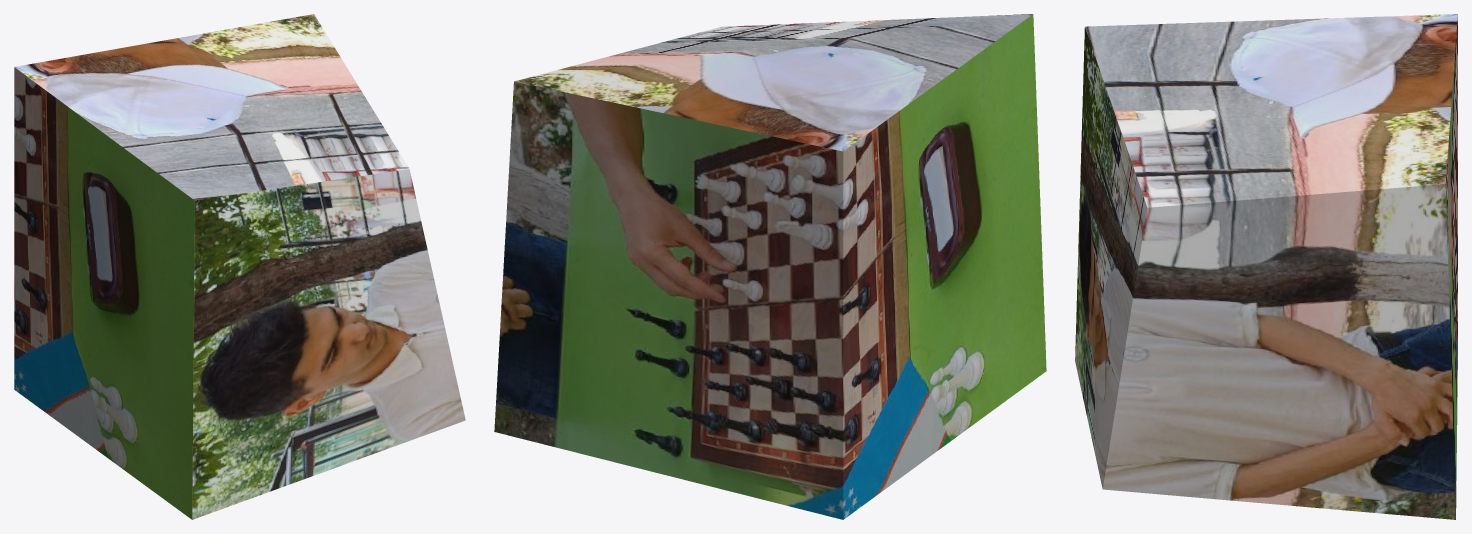
3 renders of one model, left to right at view 1: azimuth 30°, elevation 25°; view 2: azimuth 150°, elevation 25°; view 3: azimuth 270°, elevation 25°, orthographic. The views are drawn at different scales.
Parts seen in each view (by area): view 1: Cube; view 2: Cube; view 3: Cube.
Boxes of the visible parts, x1,y1,x2,y2 form: Cube: [14, 14, 465, 519]; Cube: [494, 14, 1046, 519]; Cube: [1075, 14, 1457, 519].
Bounding box in the file's own units: 1.99 × 2 × 2.
1 material, 1 textured.
